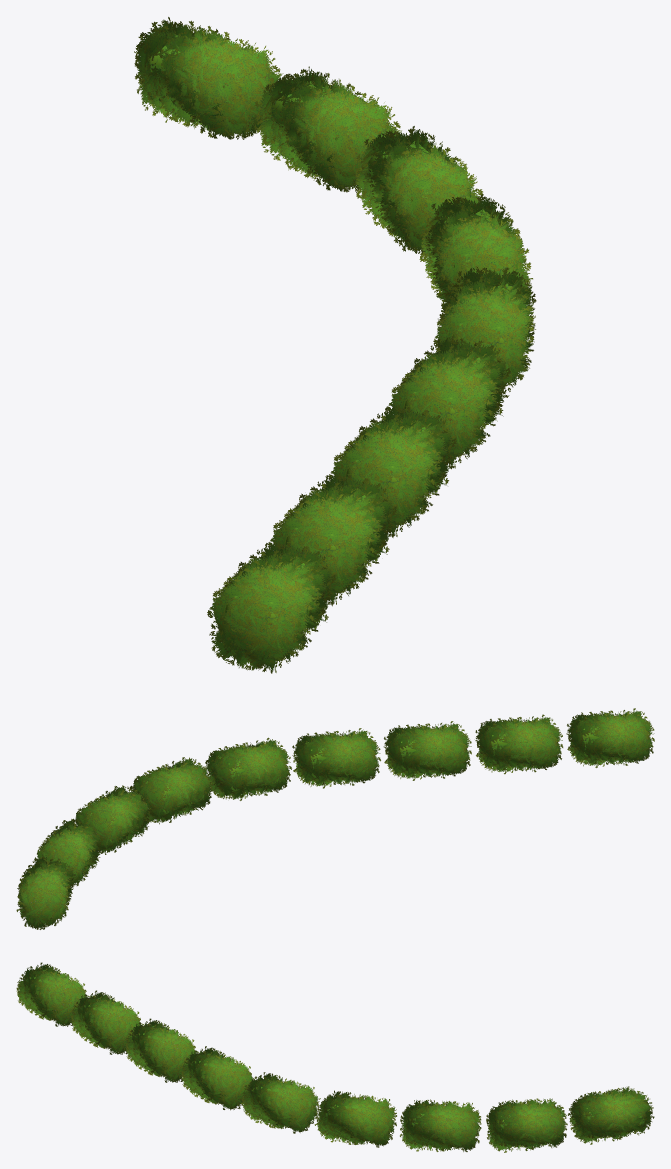
Rendered from SM_Bush06_Splines_2.fbx.
The picture shows the model from 3 angles, top to bottom: view 1: azimuth 30°, elevation 25°; view 2: azimuth 150°, elevation 25°; view 3: azimuth 270°, elevation 25°; orthographic projection. The views are drawn at different scales.
Parts seen in each view (by area): view 1: SM_Bush06_Splines_2_LOD0; view 2: SM_Bush06_Splines_2_LOD0; view 3: SM_Bush06_Splines_2_LOD0.
Boxes of the visible parts, left/top/right/bottom form: SM_Bush06_Splines_2_LOD0: left=134, top=17, right=536, bottom=673; SM_Bush06_Splines_2_LOD0: left=16, top=708, right=654, bottom=929; SM_Bush06_Splines_2_LOD0: left=16, top=962, right=654, bottom=1152.
Bounding box in the file's own units: 1164 × 1979 × 166.
